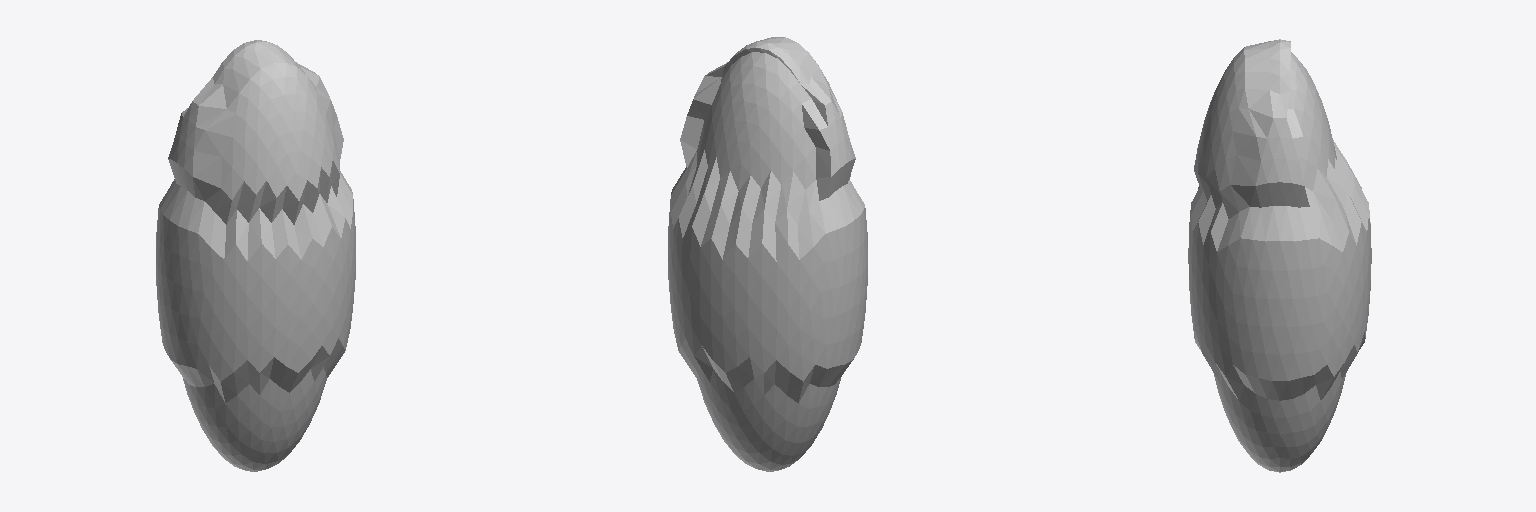
File: slim_after.obj
3 renders of one model, left to right at view 1: azimuth 30°, elevation 25°; view 2: azimuth 150°, elevation 25°; view 3: azimuth 270°, elevation 25°, orthographic.
Size of the model in its own units: 0.7525 by 1.72 by 0.6697.